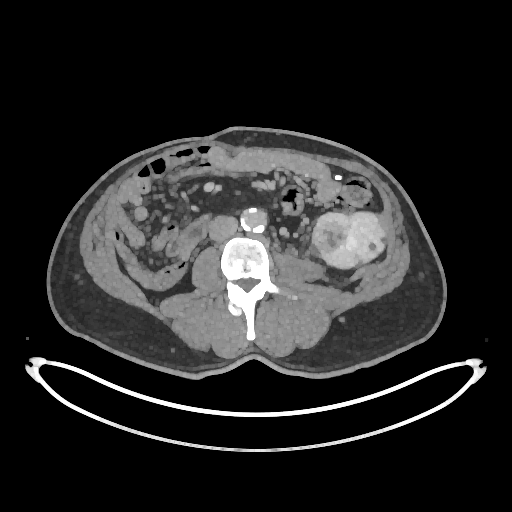Lesion: (314, 221, 351, 253)
